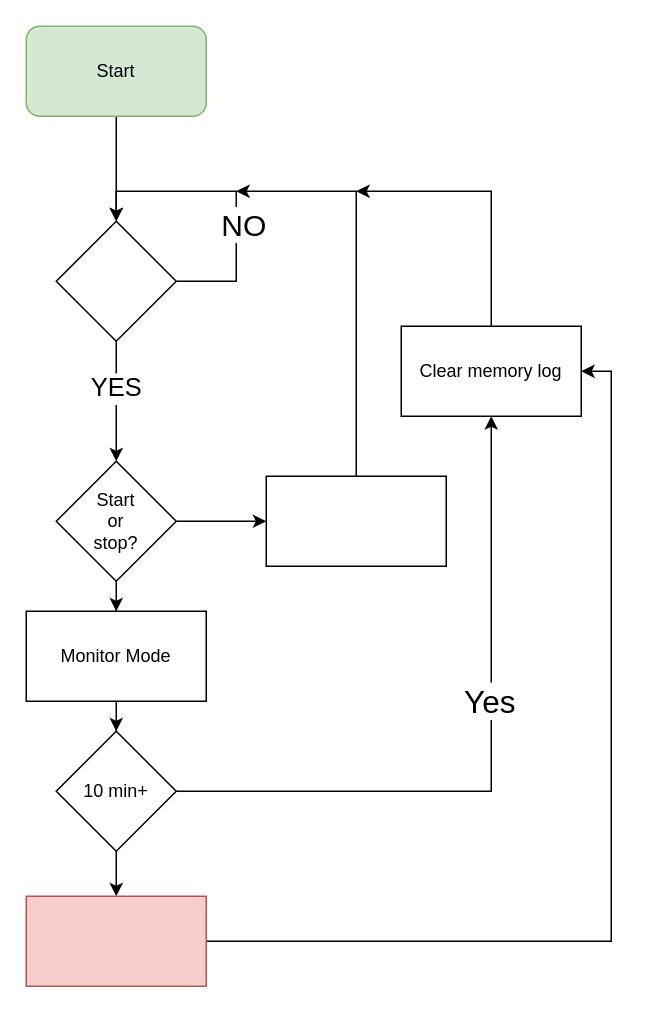
Image size: 650x1013. Some labels were removed from this diagram. Each missing label, with the centre of its shape:
"FingerPrint" goes at point 115,280.
"Stop" goes at point 355,520.
"Text log" goes at point 115,940.
